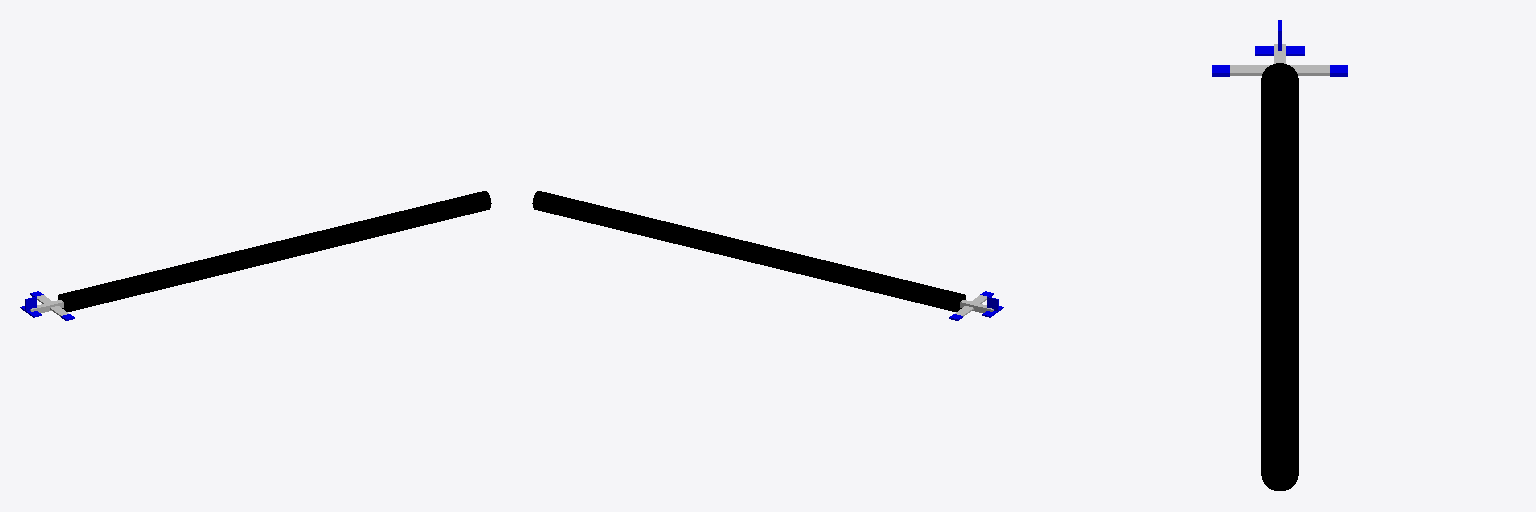
The robot description file, URDF, robot "acrowing":
<?xml version="1.0" ?>

<robot name="acrowing">

  <material name="clear">
    <color rgba="0.0 0.0 0.0 0.2"/>
  </material>
  <material name="blue">
    <color rgba="0.0 0.0 1.0 1.0"/>
  </material>
  <material name="white">
    <color rgba="0.8 0.8 0.8 1.0"/>
  </material>
  <material name="black">
    <color rgba="0.2 0.2 0.2 1.0"/>
  </material>

  <link name="base_link">
    <inertial>
      <origin rpy="0 0 0" xyz="0 0 0"/>
      <mass value="0.3"/>
      <inertia ixx="0" ixy="0" ixz="0" iyy="0" iyz="0" izz="0"/>
    </inertial>
  </link>


  <link name="motor_link">
    <inertial>
      <origin rpy="0 0 0" xyz="0 0 0"/>
      <mass value="0"/>
      <inertia ixx="0" ixy="0" ixz="0" iyy="0" iyz="0" izz="0"/>
    </inertial>
  </link>
  <joint name="motor_joint" type="fixed">
    <origin rpy="0 0 0" xyz="0 0 0"/>
    <parent link="base_link"/>
    <child link="motor_link"/>
  </joint>


  <link name="horizontal_tail_link">
    <inertial>
      <origin rpy="0 0 0" xyz="0 0 0"/>
      <mass value="0.1"/>
      <inertia ixx="0" ixy="0" ixz="0" iyy="0" iyz="0" izz="0"/>
    </inertial>
    <collision>
      <origin rpy="0 0 0" xyz="0 0 0"/>
      <geometry>
        <box size="0.3 0.8 0.05"/>
      </geometry>
    </collision>
    <visual>
      <geometry>
        <box size="0.3 0.8 0.05"/>
      </geometry>
      <material name="blue"/>
    </visual>
  </link>
  <joint name="horizontal_tail_joint" type="fixed">
    <origin rpy="0 0 0" xyz="-1.1 0 0"/>
    <parent link="base_link"/>
    <child link="horizontal_tail_link"/>
  </joint>


  <link name="vertical_tail_link">
    <inertial>
      <origin rpy="0 0 0" xyz="0 0 0"/>
      <mass value="0.05"/>
      <inertia ixx="0" ixy="0" ixz="0" iyy="0" iyz="0" izz="0"/>
    </inertial>
    <collision>
      <origin rpy="0 0 0" xyz="0 0 0"/>
      <geometry>
        <box size="0.4 0.05 0.5"/>
      </geometry>
    </collision>
    <visual>
      <geometry>
        <box size="0.4 0.05 0.4"/>
      </geometry>
      <material name="blue"/>
    </visual>
  </link>
  <joint name="vertical_tail_joint" type="fixed">
    <origin rpy="0 0 0" xyz="-1.1 0 0.25"/>
    <parent link="base_link"/>
    <child link="vertical_tail_link"/>
  </joint>


  <link name="ail_left_link">
    <inertial>
      <origin rpy="0 0 0" xyz="0 0 0"/>
      <mass value="0.2"/>
      <inertia ixx="0" ixy="0" ixz="0" iyy="0" iyz="0" izz="0"/>
    </inertial>
    <collision>
      <origin rpy="0 0 0" xyz="0 0 0"/>
      <geometry>
        <box size="0.31 0.3 0.06"/>
      </geometry>
    </collision>
    <visual>
      <geometry>
        <box size="0.31 0.3 0.06"/>
      </geometry>
      <material name="blue"/>
    </visual>
  </link>
  <joint name="ail_left_joint" type="fixed">
    <origin rpy="0 0 0" xyz="-0.35 0.95 0"/>
    <parent link="base_link"/>
    <child link="ail_left_link"/>
  </joint>


  <link name="ail_right_link">
    <inertial>
      <origin rpy="0 0 0" xyz="0 0 0"/>
      <mass value="0.2"/>
      <inertia ixx="0" ixy="0" ixz="0" iyy="0" iyz="0" izz="0"/>
    </inertial>
    <collision>
      <origin rpy="0 0 0" xyz="0 0 0"/>
      <geometry>
        <box size="0.31 0.3 0.06"/>
      </geometry>
    </collision>
    <visual>
      <geometry>
        <box size="0.31 0.3 0.06"/>
      </geometry>
      <material name="blue"/>
    </visual>
  </link>
  <joint name="ail_right_joint" type="fixed">
    <origin rpy="0 0 0" xyz="-0.35 -0.95  0"/>
    <parent link="base_link"/>
    <child link="ail_right_link"/>
  </joint>


  <link name="main_wing_link">
    <inertial>
      <origin rpy="0 0 0" xyz="0 0 0"/>
      <mass value="0.5"/>
      <inertia ixx="0" ixy="0" ixz="0" iyy="0" iyz="0" izz="0"/>
    </inertial>
    <collision>
      <origin rpy="0 0 0" xyz="0 0 0"/>
      <geometry>
        <box size="0.3 1.8 0.05"/>
      </geometry>
    </collision>
    <visual>
      <geometry>
        <box size="0.3 1.8 0.05"/>
      </geometry>
      <material name="white"/>
    </visual>
  </link>
  <joint name="main_wing_joint" type="fixed">
    <origin rpy="0 0 0" xyz="-0.35 0 0"/>
    <parent link="base_link"/>
    <child link="main_wing_link"/>
  </joint>


  <link name="fuselage_link">
    <inertial>
      <origin rpy="0 0 0" xyz="0 0 0"/>
      <mass value="1"/>
      <inertia ixx="0" ixy="0" ixz="0" iyy="0" iyz="0" izz="0"/>
    </inertial>
    <collision>
      <origin rpy="0 0 0" xyz="0 0 0"/>
      <geometry>
        <box size="1.4 0.2 0.2"/>
      </geometry>
    </collision>
    <visual>
      <geometry>
        <box size="1.4 0.2 0.2"/>
      </geometry>
      <material name="white"/>
    </visual>
  </link>
  <joint name="fuselage_joint" type="fixed">
    <origin rpy="0 0 0" xyz="-0.45 0 0"/>
    <parent link="base_link"/>
    <child link="fuselage_link"/>
  </joint>

  <link name="gunsight_link">
    <inertial>
      <origin rpy="0 0 0" xyz="0 0 0"/>
      <mass value="0"/>
      <inertia ixx="0" ixy="0" ixz="0" iyy="0" iyz="0" izz="0"/>
    </inertial>
    <visual>
      <geometry>
        <cylinder radius="0.3" length="15.0"/>
      </geometry>
      <material name="clear"/>
    </visual>
  </link>
  <joint name="gunsight_joint" type="fixed">
    <origin rpy="0 1.571 0" xyz="7.5 0 0"/>
    <parent link="base_link"/>
    <child link="gunsight_link"/>
  </joint>
</robot>

--- Render facts (derived) ---
3 views of the same robot in one strip: view 1: azimuth 30°, elevation 25°; view 2: azimuth 150°, elevation 25°; view 3: azimuth 270°, elevation 25° (orthographic).
Robot: acrowing — 9 links, 8 joints (8 fixed); root link base_link; default pose: all joints at 0.
Visible links, largest first — view 1: gunsight_link; view 2: gunsight_link; view 3: gunsight_link, main_wing_link.
Boxes of the visible links, x1,y1,x2,y2 form: gunsight_link: [58, 191, 491, 311]; gunsight_link: [532, 191, 965, 311]; gunsight_link: [1261, 63, 1298, 490]; main_wing_link: [1230, 65, 1329, 75].
Bounding box of the posed robot: 16.3 × 2.2 × 0.7515 m (x, y, z).
Geometry: primitives only (box / cylinder / sphere), no mesh files.
